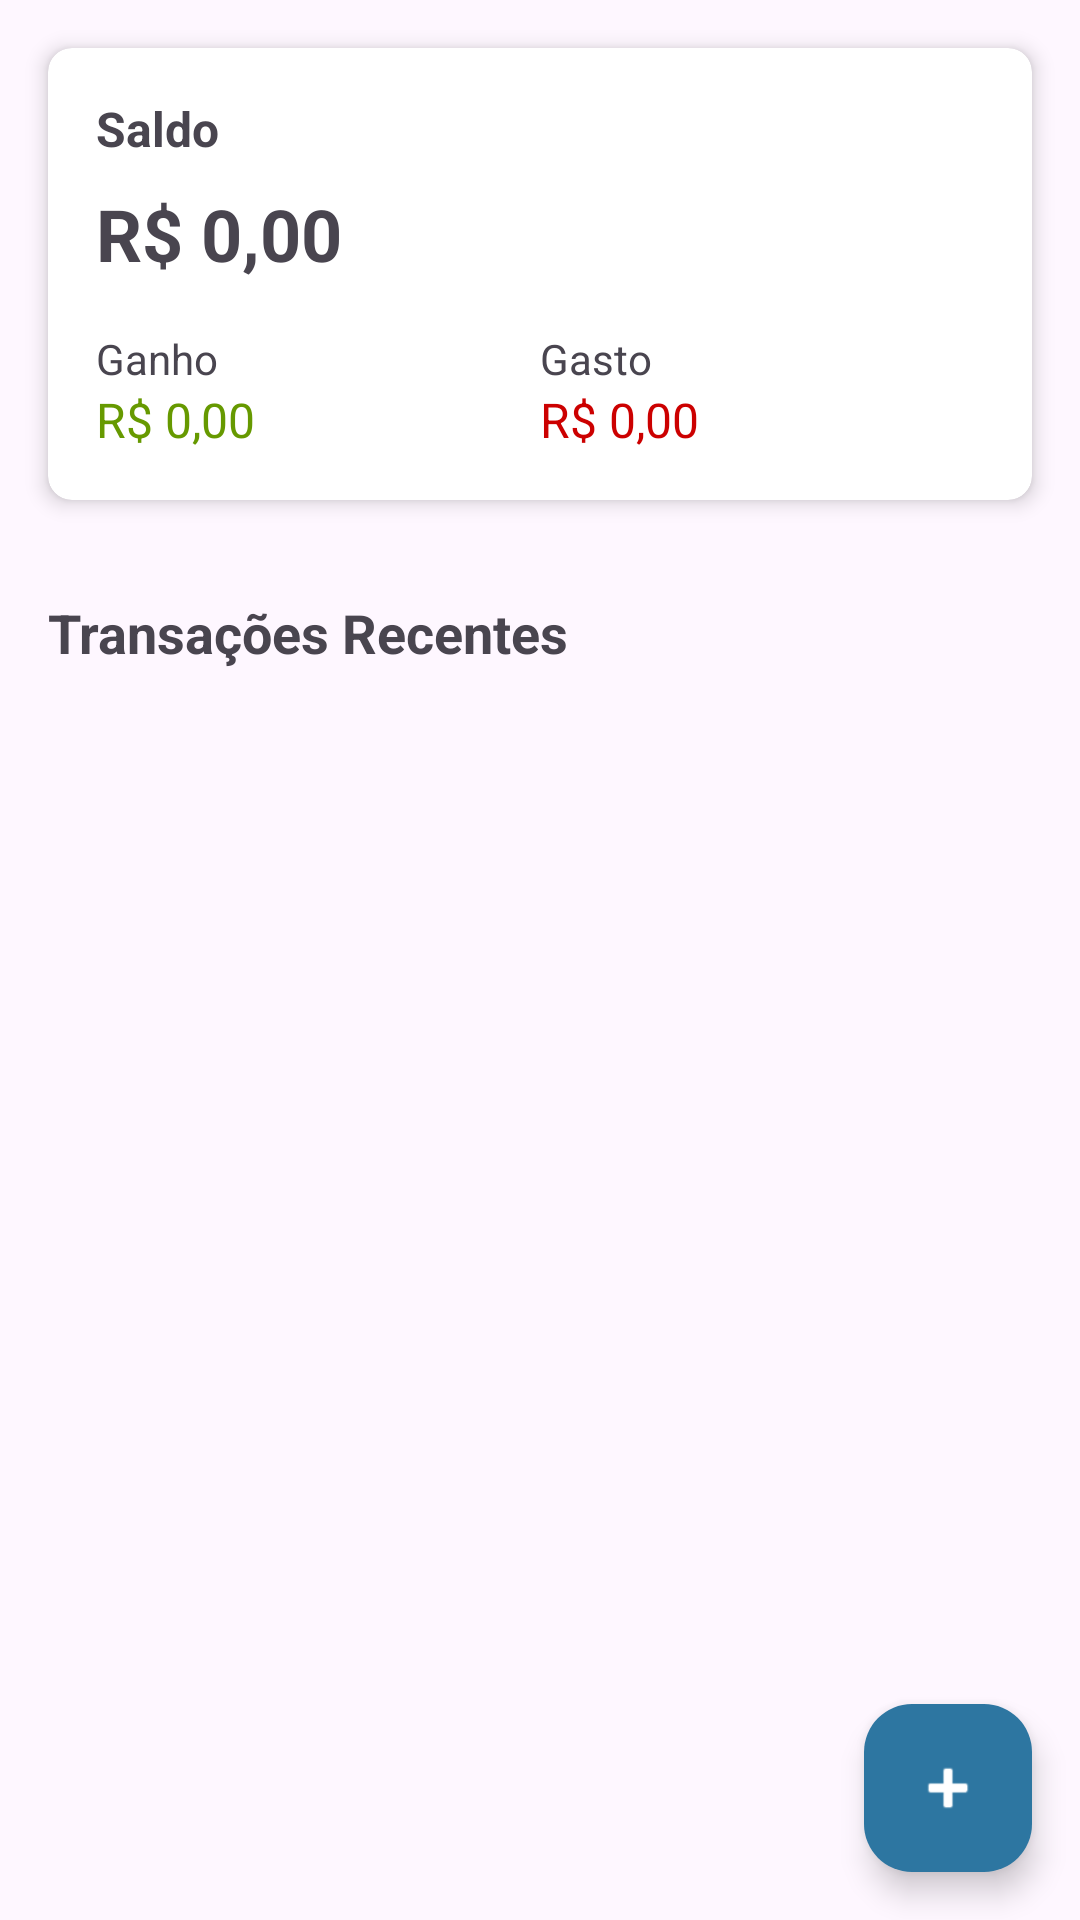

Icon click points for this 1080px x 1920px phone screenshot, format [x,y]:
Adicionar Transação: [948,1788]
